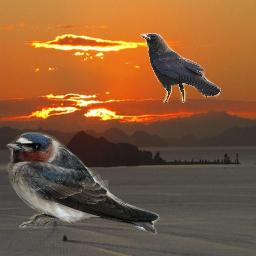Crow: (140, 33, 221, 103)
Swallow: (3, 131, 161, 235)
